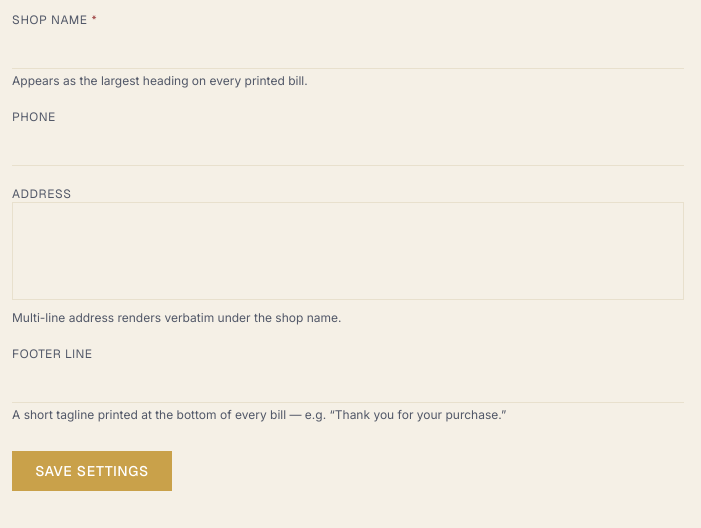
Test: SettingsForm — save behavior › surfaces field-keyed server error on the shopName input
Type "X" into the field labelled "Shop name*" at (348, 48), box x1=12 y1=28 x2=684 y2=69
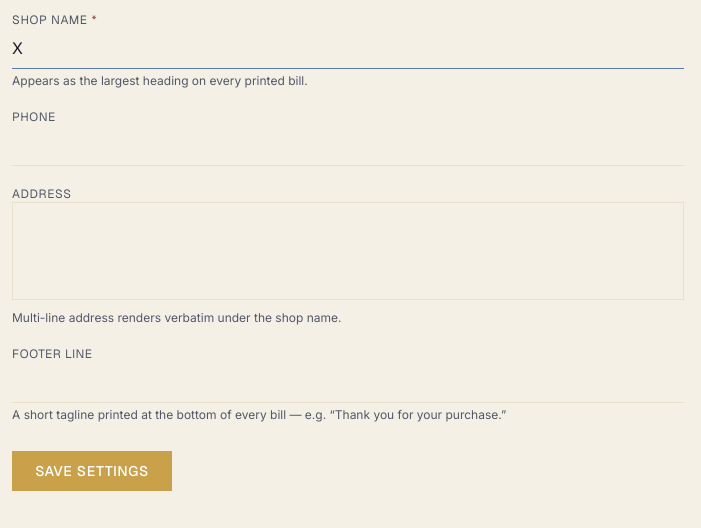
Click the button with test id "settings-save" at (92, 471), box x1=12 y1=451 x2=172 y2=491
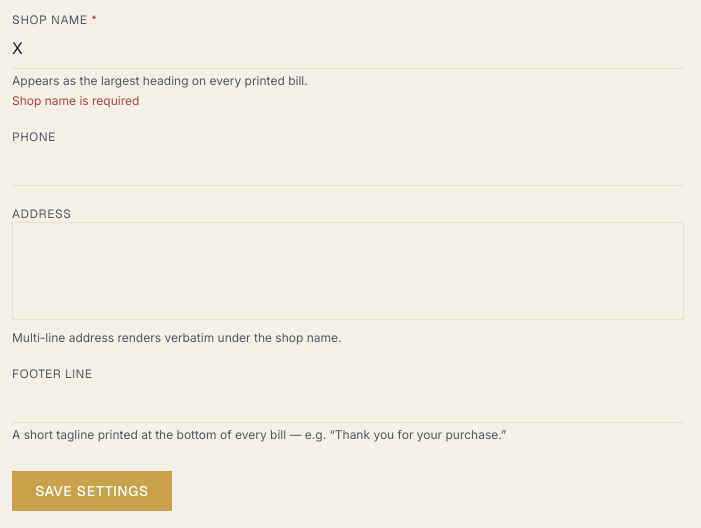
Check: the text "Shop name is required" is shown, box x1=12 y1=93 x2=139 y2=108
